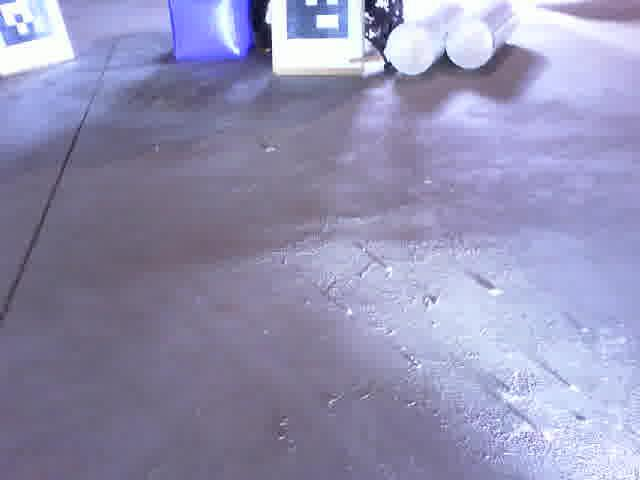coral: (382, 0, 462, 78), (444, 0, 519, 72)
